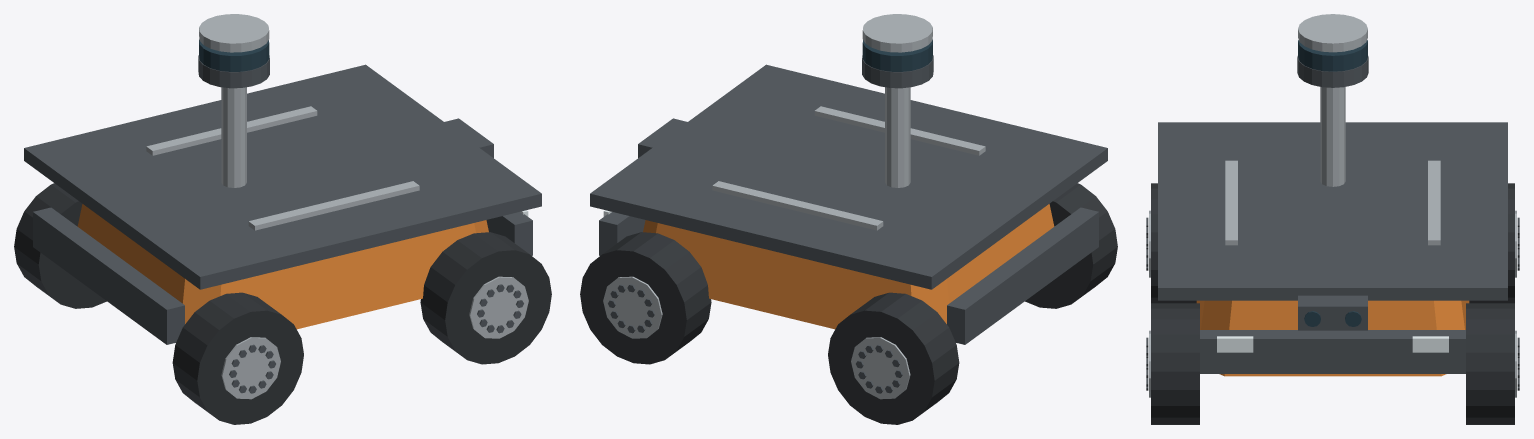
The model's file is scout_mini.glb.
3 renders of one model, left to right at view 1: azimuth 30°, elevation 25°; view 2: azimuth 150°, elevation 25°; view 3: azimuth 270°, elevation 25°, orthographic.
Visible parts, largest first — view 1: world; view 2: world; view 3: world.
Boxes of the visible parts, x1,y1,x2,y2 form: world: (14,14,551,424); world: (580,14,1117,424); world: (1146,14,1519,424).
Size of the model in its own units: 0.62 by 0.4845 by 0.534.
